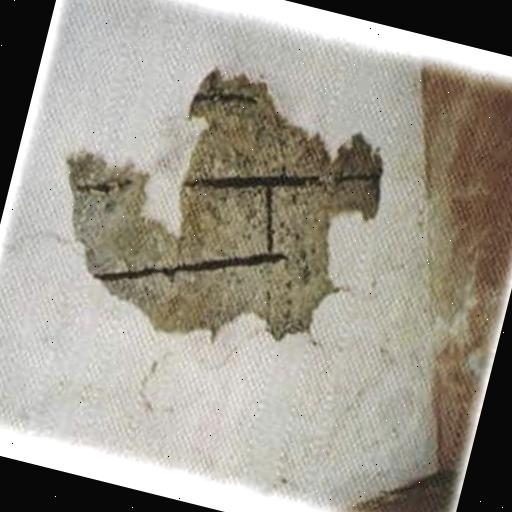spalling: (67, 64, 391, 345)
